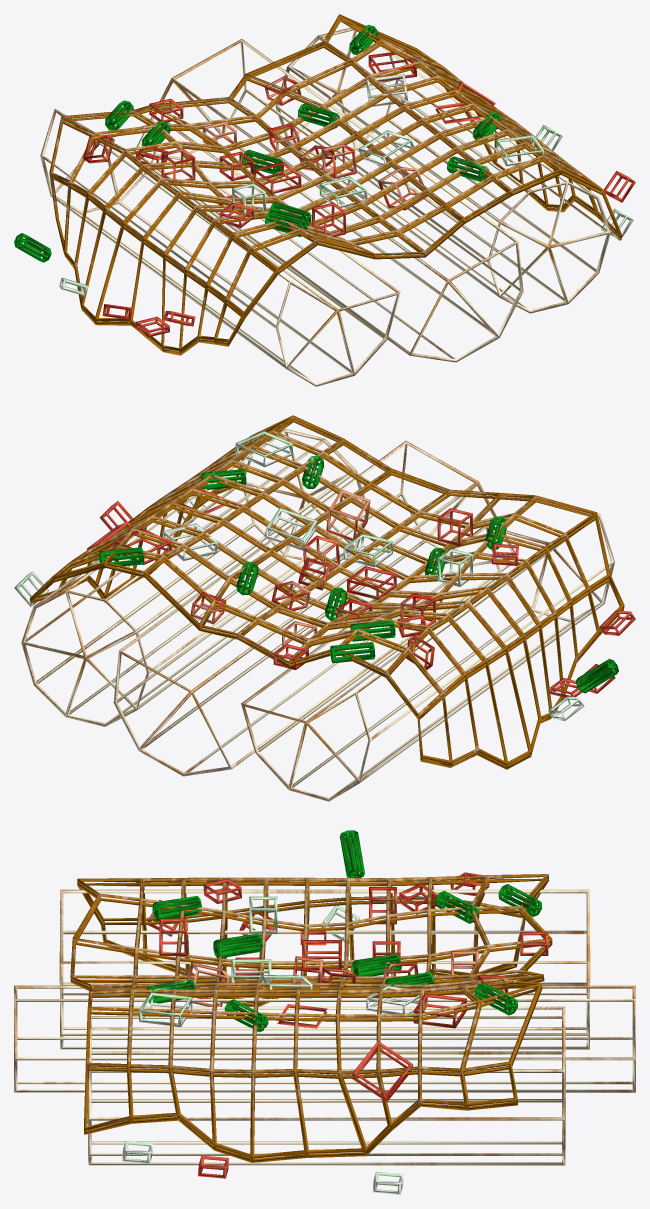
File: yucaWireframe.glb
3 views of the same model, one above another, from view 1: azimuth 30°, elevation 25°; view 2: azimuth 150°, elevation 25°; view 3: azimuth 270°, elevation 25° (orthographic). The views are drawn at different scales.
Visible parts, largest first — view 1: Plato2; view 2: Plato2; view 3: Plato2.
Boxes of the visible parts, <box> form: Plato2: <box>14,14,635,386</box>; Plato2: <box>14,415,635,801</box>; Plato2: <box>14,830,635,1194</box>.
Size of the model in its own units: 2.15 by 0.6288 by 1.85.
5 materials, 5 textured.
